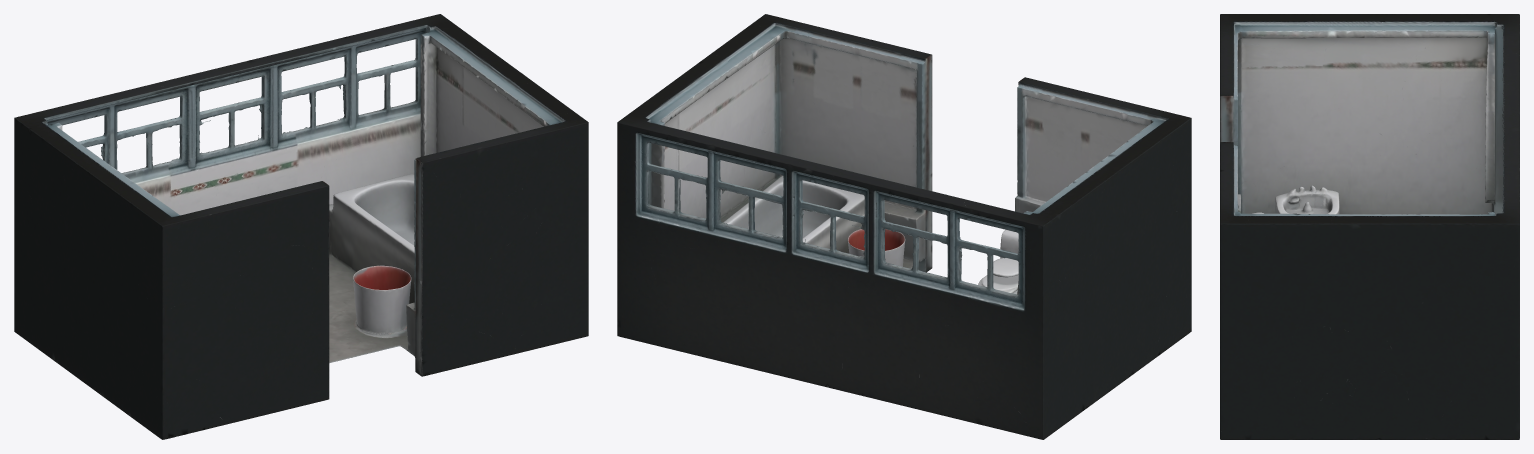
The model's file is bathroom.glb.
The picture shows the model from 3 angles, left to right: view 1: azimuth 30°, elevation 25°; view 2: azimuth 150°, elevation 25°; view 3: azimuth 270°, elevation 25°; orthographic projection.
Bounding box in the file's own units: 1.9 × 0.911 × 1.14.
Materials: 1 (1 with a texture image).
